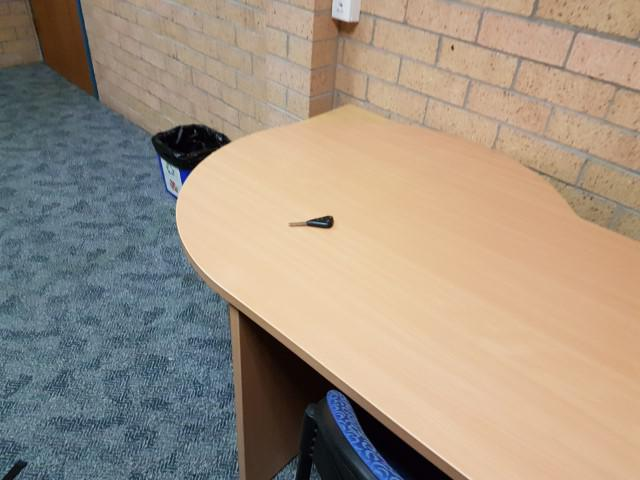key: (290, 216, 334, 229)
